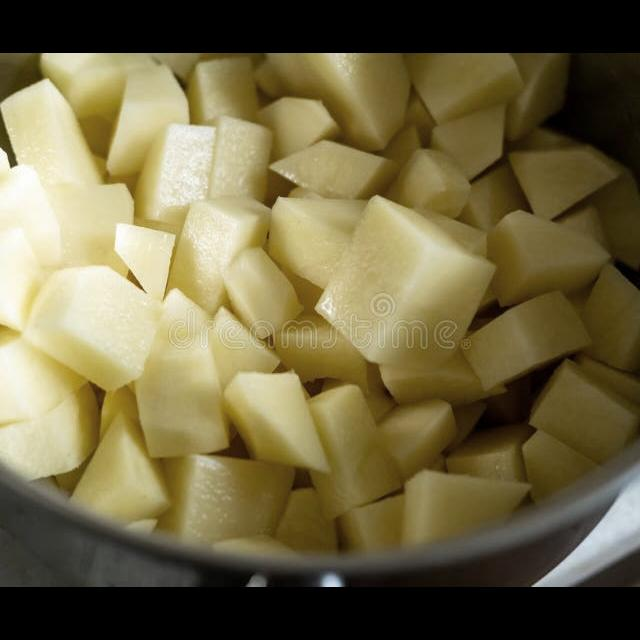potato: (0, 53, 640, 485)
